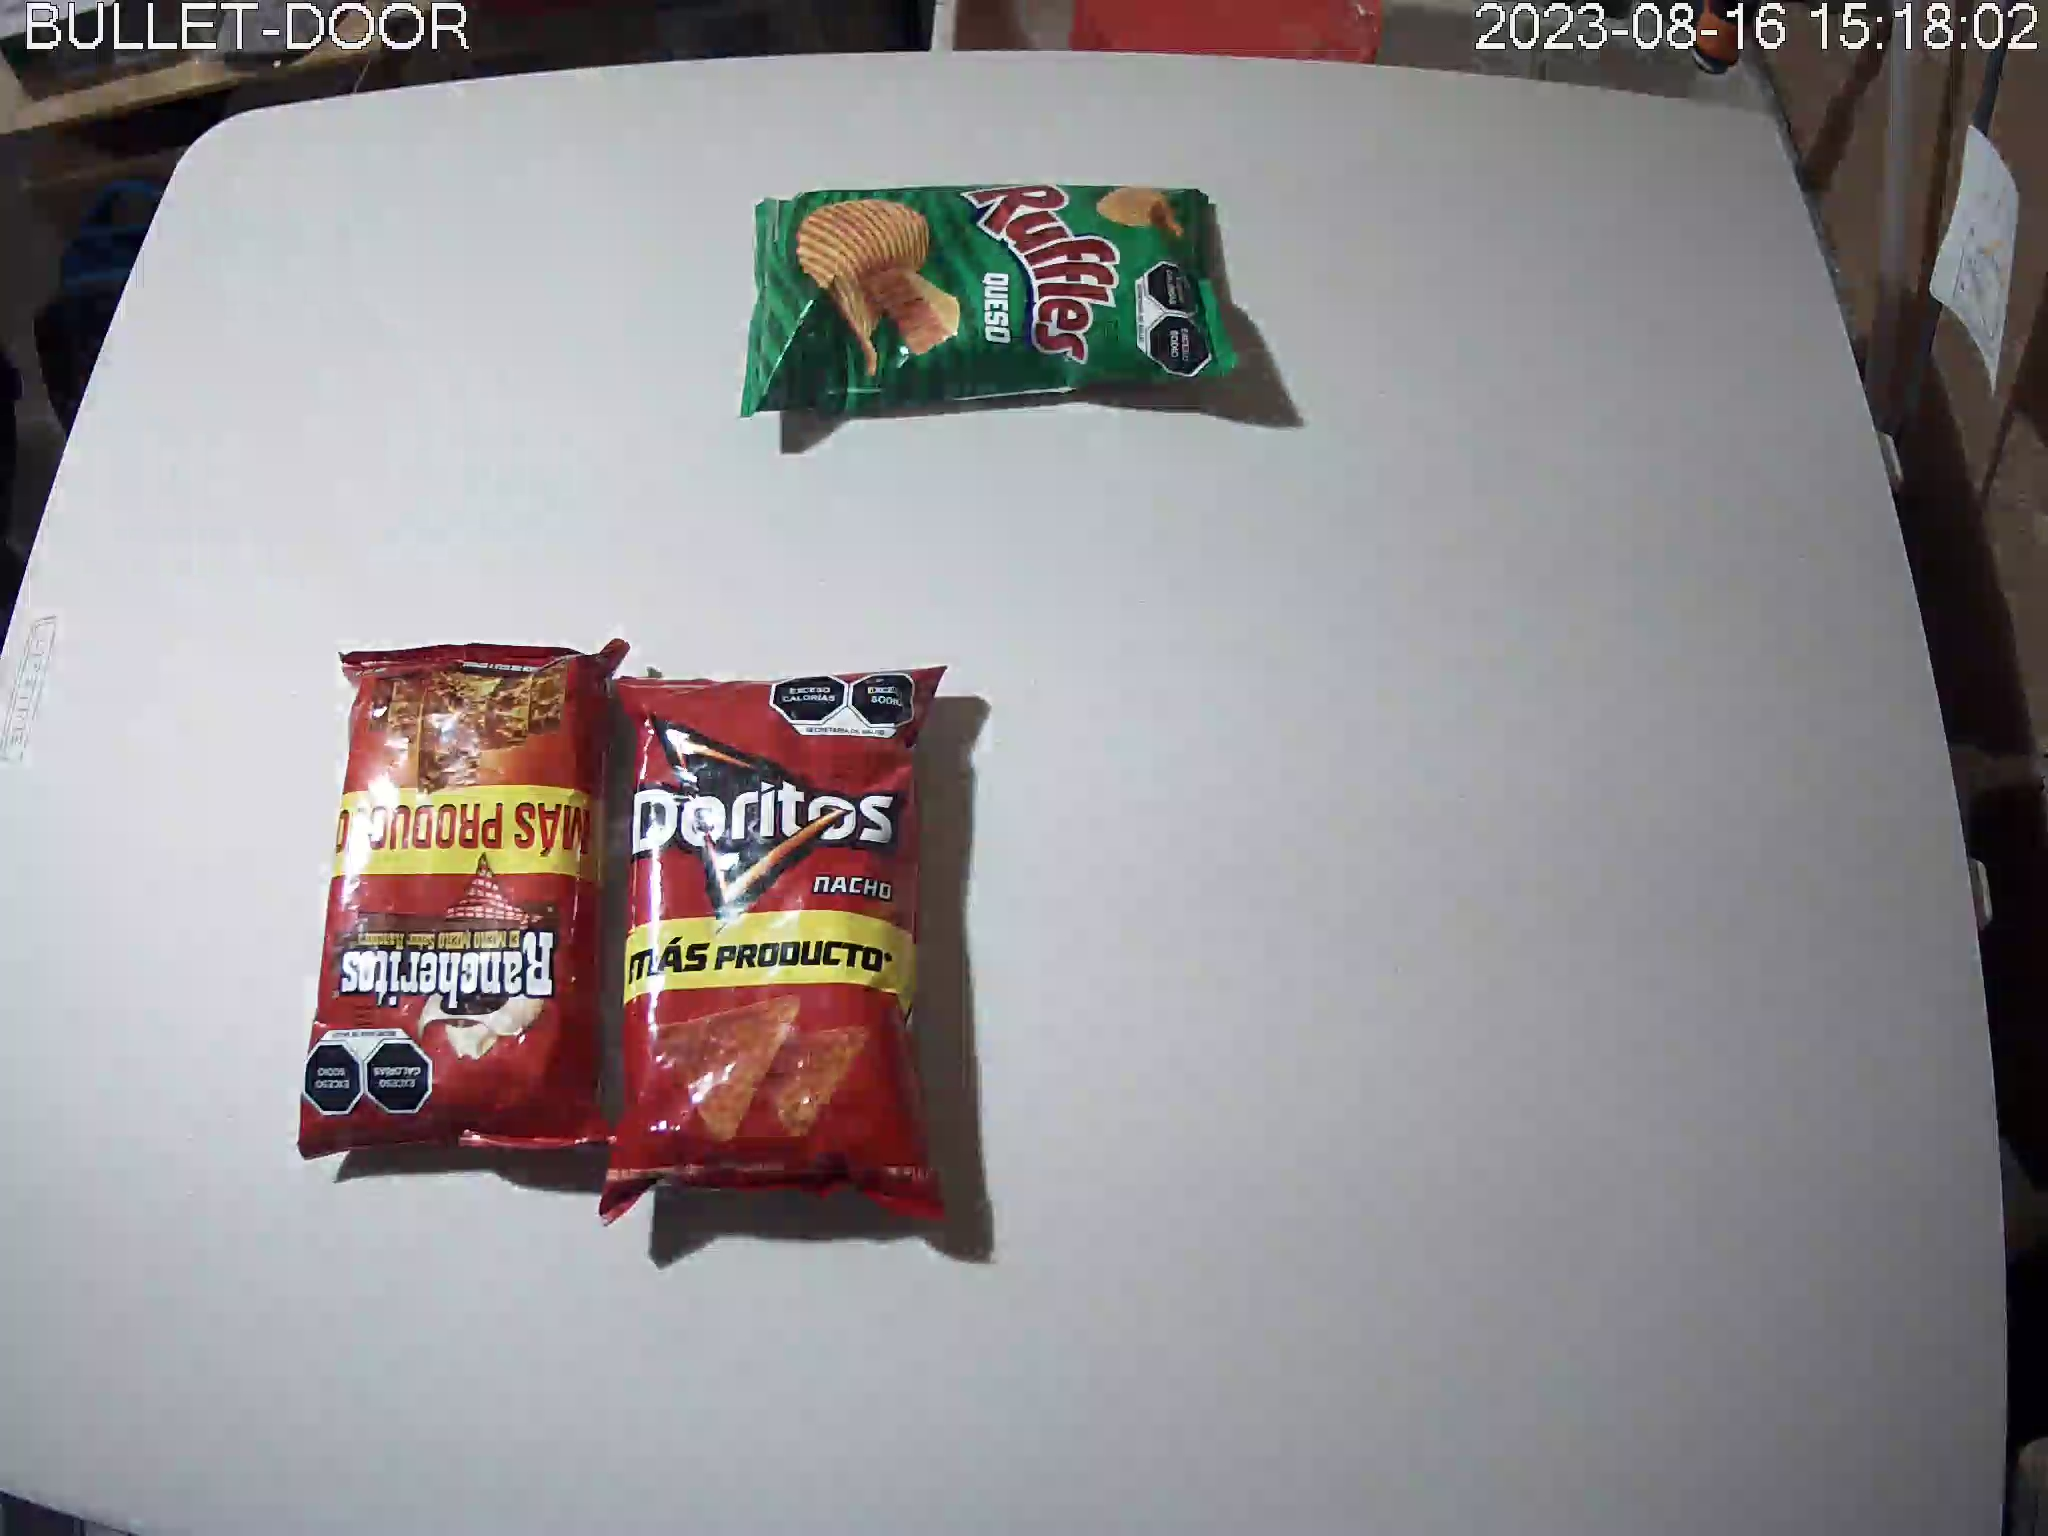DoritosN_61_F: (601, 663, 951, 1226)
Rancheritos_58_F: (297, 637, 632, 1158)
RufflesQ_48_F: (742, 182, 1242, 418)
